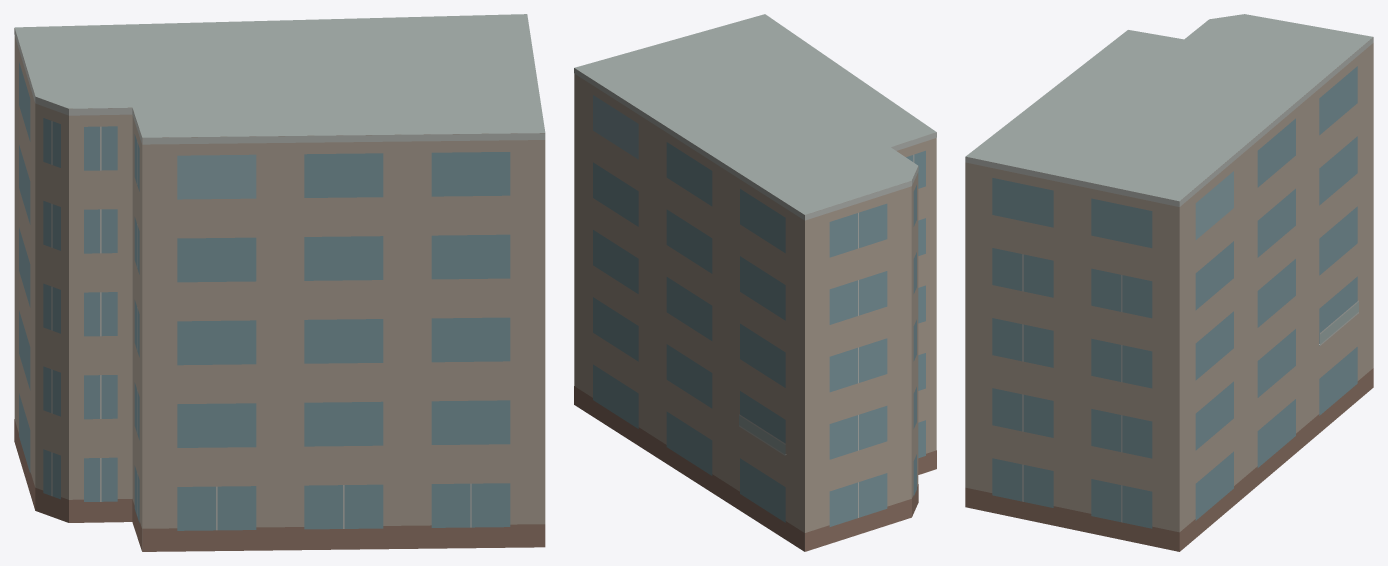
File: survey-upis-33021107.glb
The picture shows the model from 3 angles, left to right: view 1: azimuth 30°, elevation 25°; view 2: azimuth 150°, elevation 25°; view 3: azimuth 270°, elevation 25°; orthographic projection. The views are drawn at different scales.
Parts seen in each view (by area): view 1: survey-upis-33021107.tmp; view 2: survey-upis-33021107.tmp; view 3: survey-upis-33021107.tmp.
Boxes of the visible parts, x1,y1,x2,y2 form: survey-upis-33021107.tmp: [14, 14, 545, 551]; survey-upis-33021107.tmp: [574, 14, 936, 551]; survey-upis-33021107.tmp: [965, 14, 1373, 551].
Size of the model in its own units: 16.8 by 14.65 by 15.46.
